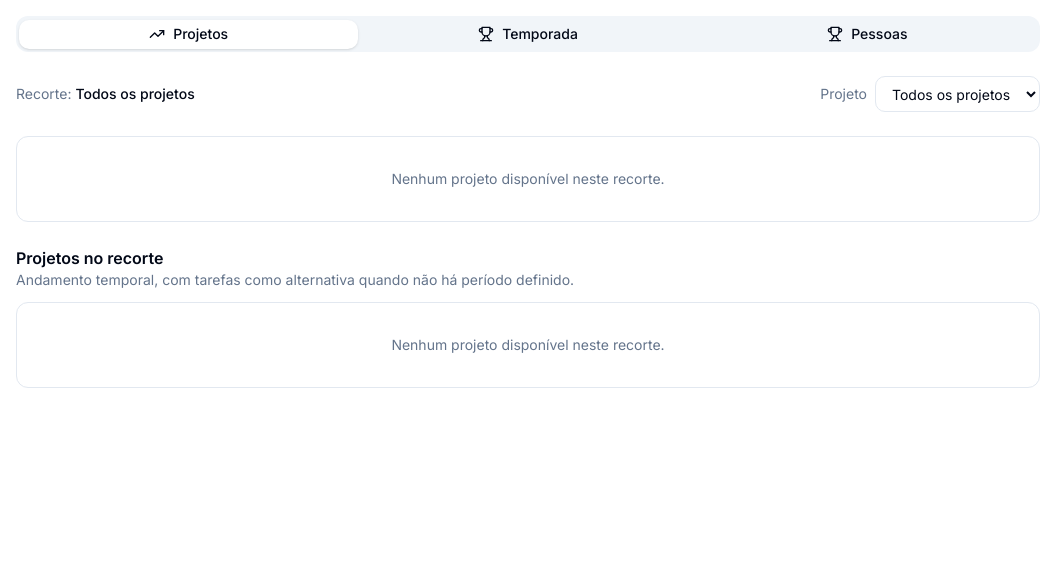
Test case: aba Temporada (plan-v20 S02, DEC-255) › voltar ao ano em curso devolve o quadro vivo de antes
Step 1. Press the mouse on the tab "Temporada" → (528, 34), box x1=358 y1=20 x2=698 y2=48
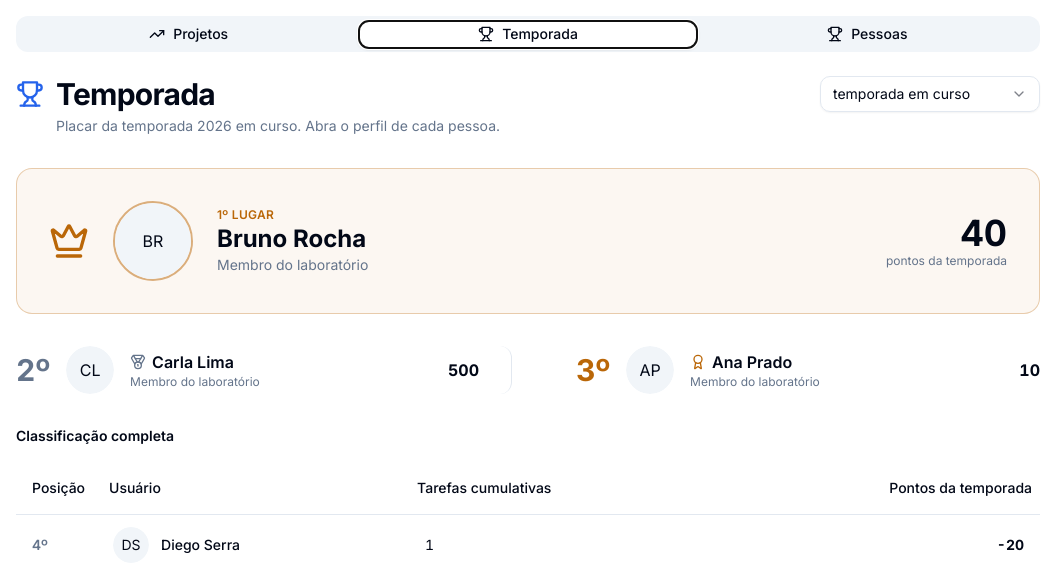
Check: the column heading "Pontos da temporada" is shown, box x1=716 y1=462 x2=1040 y2=514
Step 2. Click the dropdown named "Ano da temporada" → (930, 94), box x1=820 y1=76 x2=1040 y2=112
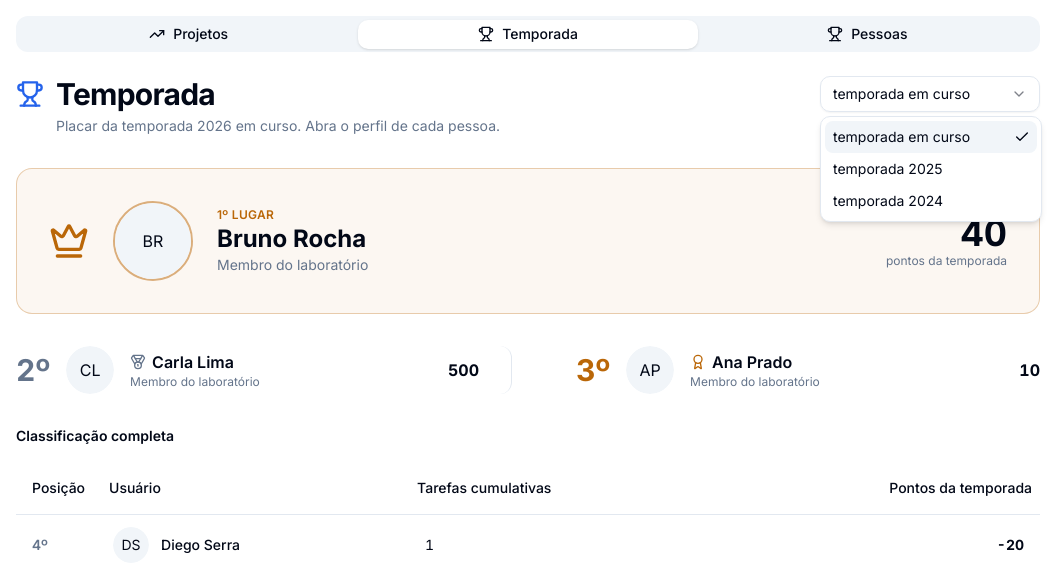
Step 3. Click the option "temporada 2025" → (888, 168), box x1=833 y1=160 x2=943 y2=177
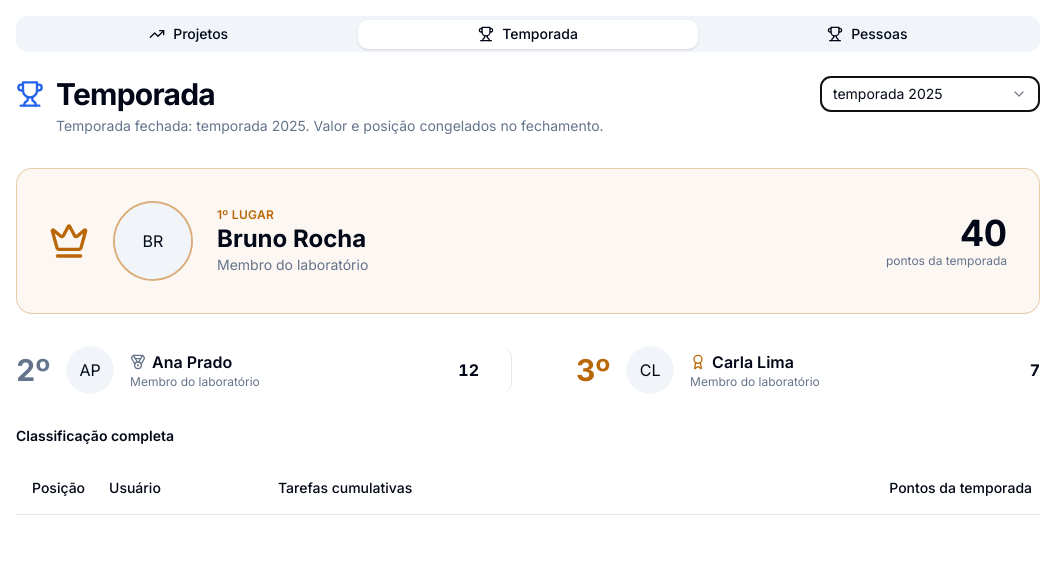
Check: the text "Bruno Rocha" is shown, box x1=217 y1=224 x2=366 y2=253
Step 4. Click the dropdown named "Ano da temporada" → (930, 94), box x1=820 y1=76 x2=1040 y2=112
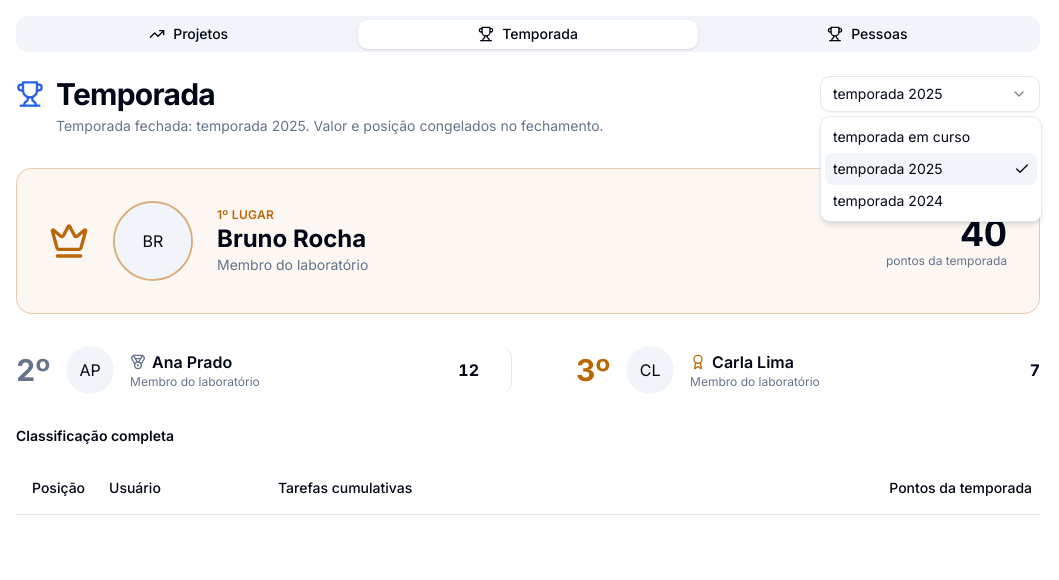
Step 5. Click the option "temporada em curso" → (902, 136), box x1=833 y1=128 x2=970 y2=145
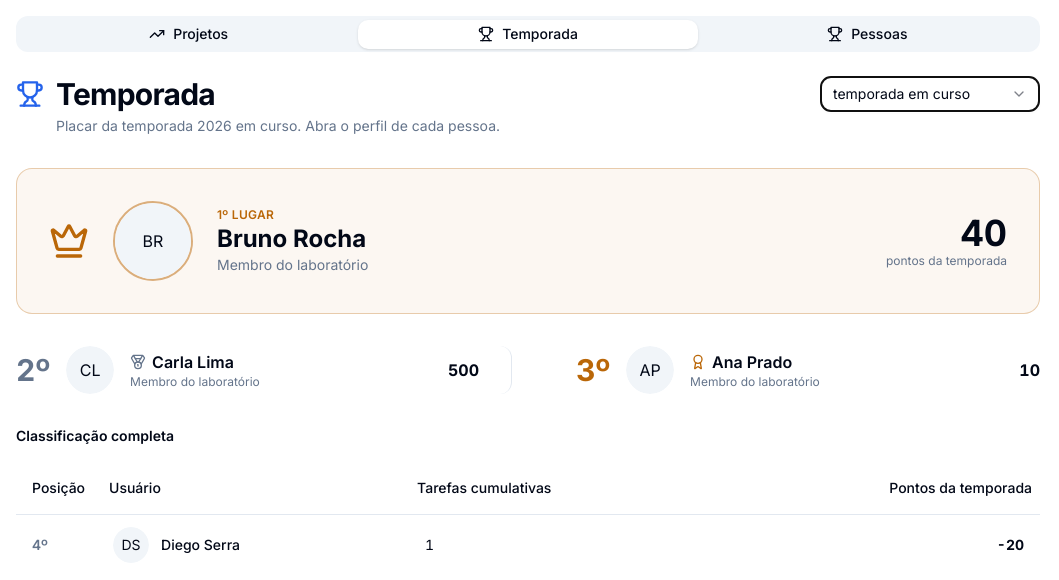
Check: the text "500" is shown, box x1=448 y1=358 x2=479 y2=382
